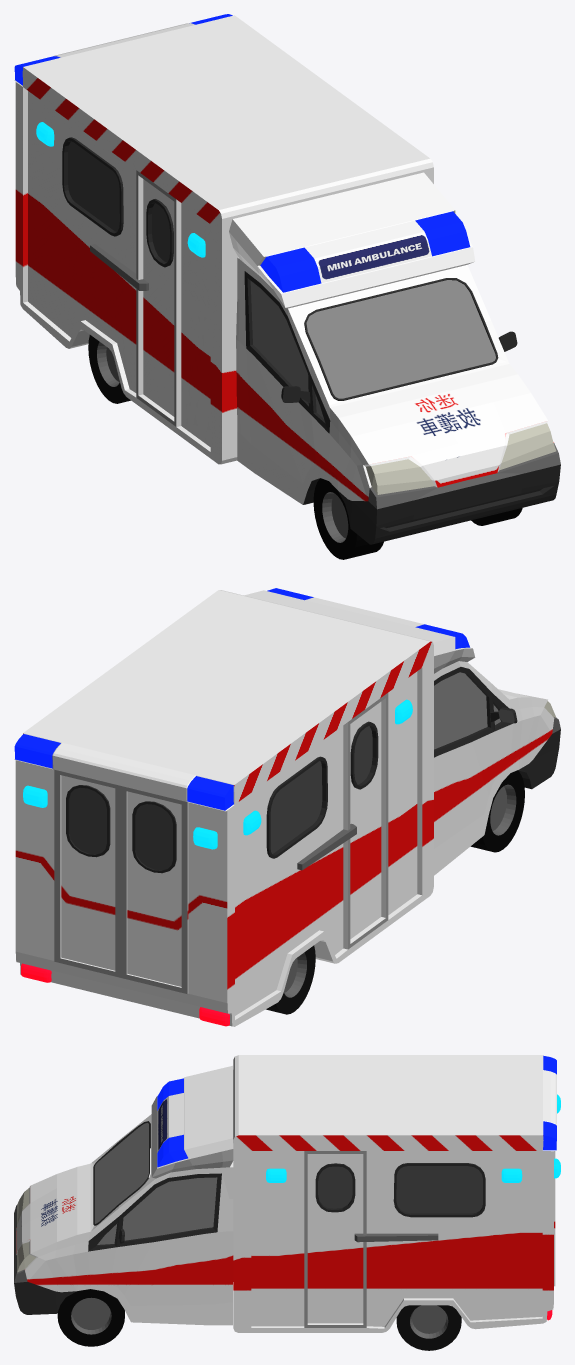
File: ambulance.fbx
3 views of the same model, one above another, from view 1: azimuth 30°, elevation 25°; view 2: azimuth 150°, elevation 25°; view 3: azimuth 270°, elevation 25° (orthographic). The views are drawn at different scales.
Visible parts, largest first — view 1: Cube, Cube.007, Cylinder.001, Cylinder, Cube.001; view 2: Cube, Cube.004, Cube.007, Cylinder.001, Cylinder, Cube.005, Cube.006, Cube.001; view 3: Cube, Cube.007, Cylinder.001, Cylinder, Cube.001.
Boxes of the visible parts, x1,y1,x2,y2 form: Cube: (14, 14, 433, 464); Cube.007: (229, 172, 560, 544); Cylinder.001: (313, 478, 522, 559); Cylinder: (88, 335, 130, 403); Cube.001: (90, 244, 148, 290); Cube: (14, 590, 433, 1026); Cube.004: (54, 769, 188, 993); Cube.007: (244, 588, 560, 875); Cylinder.001: (470, 770, 524, 852); Cylinder: (266, 945, 315, 1014); Cube.005: (23, 785, 217, 849); Cube.006: (21, 963, 229, 1026); Cube.001: (297, 823, 356, 870); Cube: (233, 1055, 556, 1332); Cube.007: (14, 1065, 233, 1325); Cylinder.001: (57, 1289, 124, 1346); Cylinder: (396, 1305, 461, 1350); Cube.001: (354, 1233, 438, 1242).
Bounding box in the file's own units: 178 × 205 × 462.
Materials: 13 (1 with a texture image).
